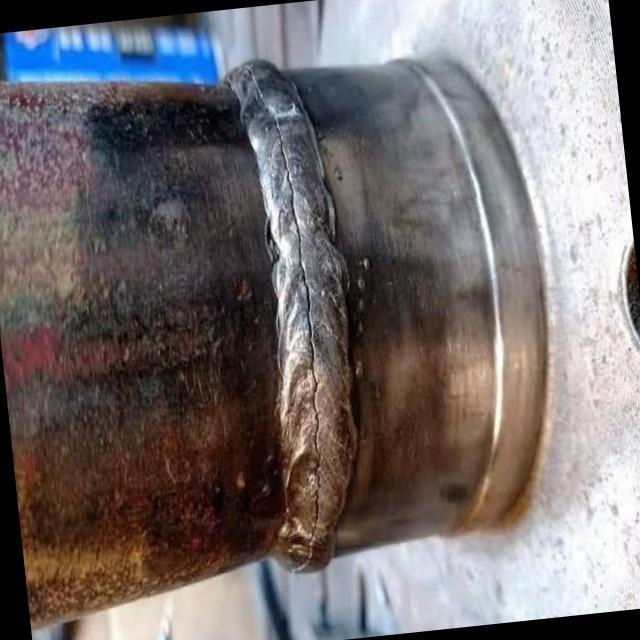defect: (247, 55, 325, 575)
